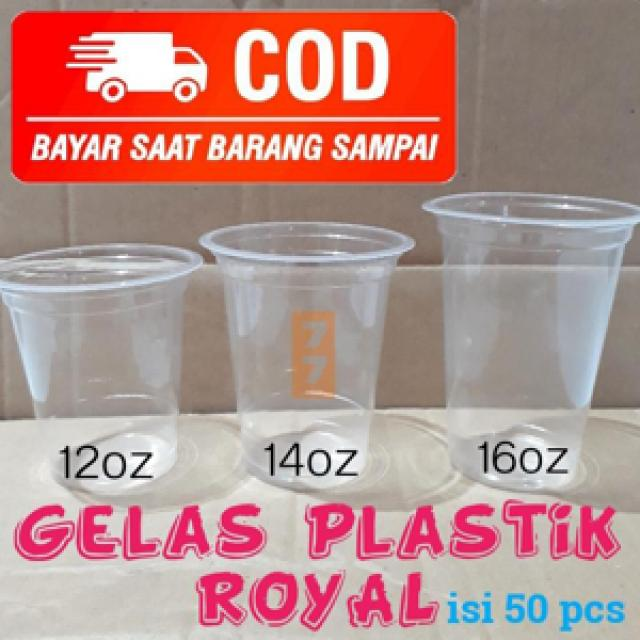plastic cup: (420, 184, 640, 499), (198, 218, 416, 495), (2, 233, 207, 516)
